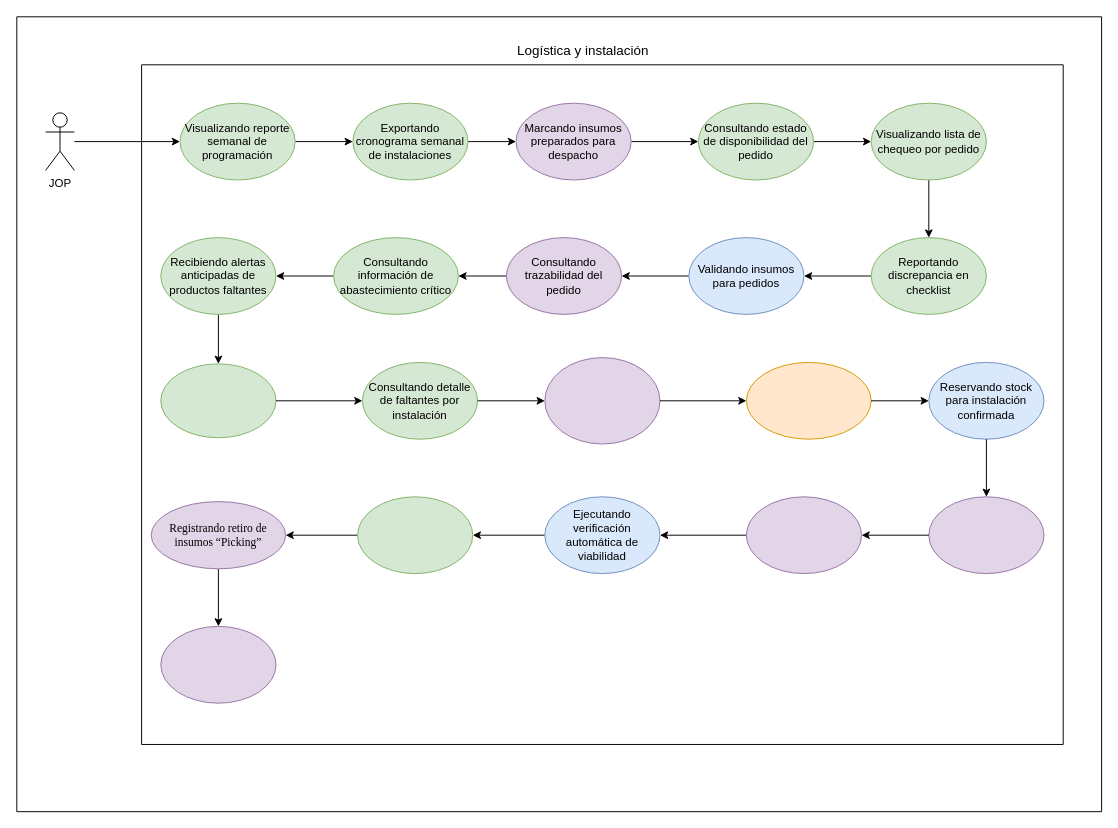
The diagram is 1118 pixels wide and 828 high, and some of its shapes have lost their labels. The shapes that lost their labels are listed below. From the top down, each one's box as (x1, y1, x2, y2) in pixels, then its label:
(160, 363, 276, 438): Generando solicitud de compra de emergencia
(544, 357, 660, 444): Vinculando insumos a pedido de instalación
(745, 361, 871, 439): Vinculando recepción de insumo especial a pedido
(357, 496, 473, 574): Resolviendo o descartando alerta de faltante
(745, 496, 862, 574): Confirmando carga y salida de transporte
(928, 496, 1044, 574): Controlando la carga en transporte
(160, 625, 276, 703): Devolviendo a bodega insumos retirados
